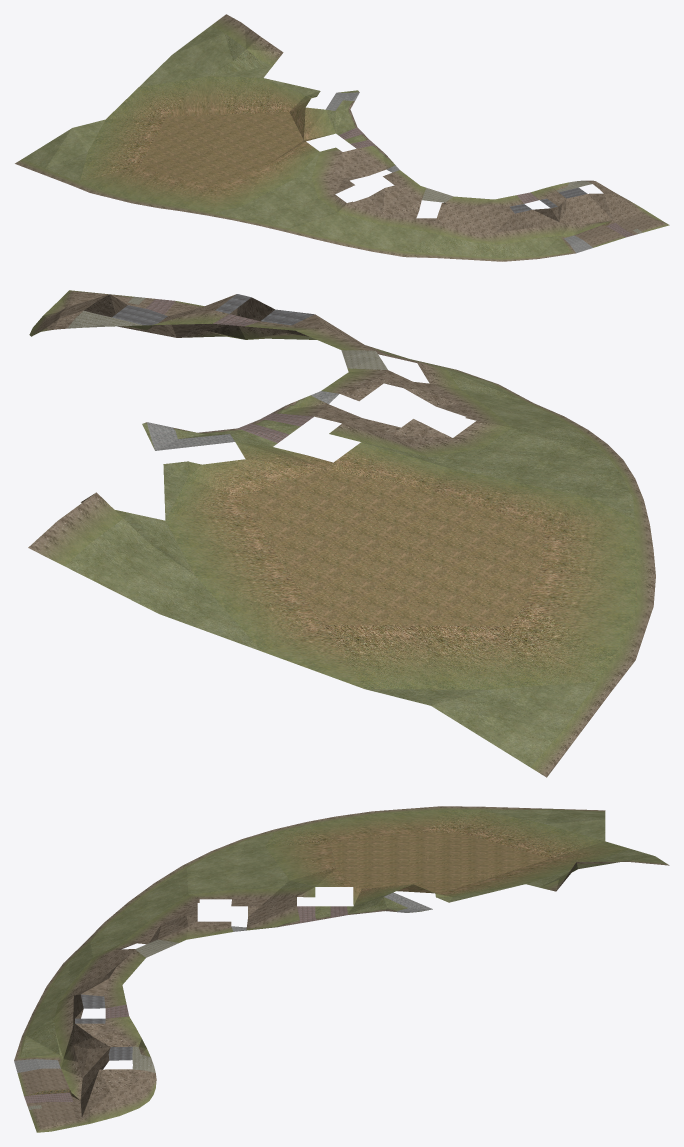
Rendered from cunte_hollyhil01.obj.
3 views of the same model, one above another, from view 1: azimuth 30°, elevation 25°; view 2: azimuth 150°, elevation 25°; view 3: azimuth 270°, elevation 25° (orthographic). The views are drawn at different scales.
Parts seen in each view (by area): view 1: cunte_hollyhil01; view 2: cunte_hollyhil01; view 3: cunte_hollyhil01.
Part boxes in pixels (box(x1,y1,x2,y2)): cunte_hollyhil01: box(15, 14, 669, 261); cunte_hollyhil01: box(28, 290, 655, 777); cunte_hollyhil01: box(14, 806, 669, 1132).
Bounding box in the file's own units: 296 × 60.39 × 276.
Materials: 11 (11 with a texture image).
